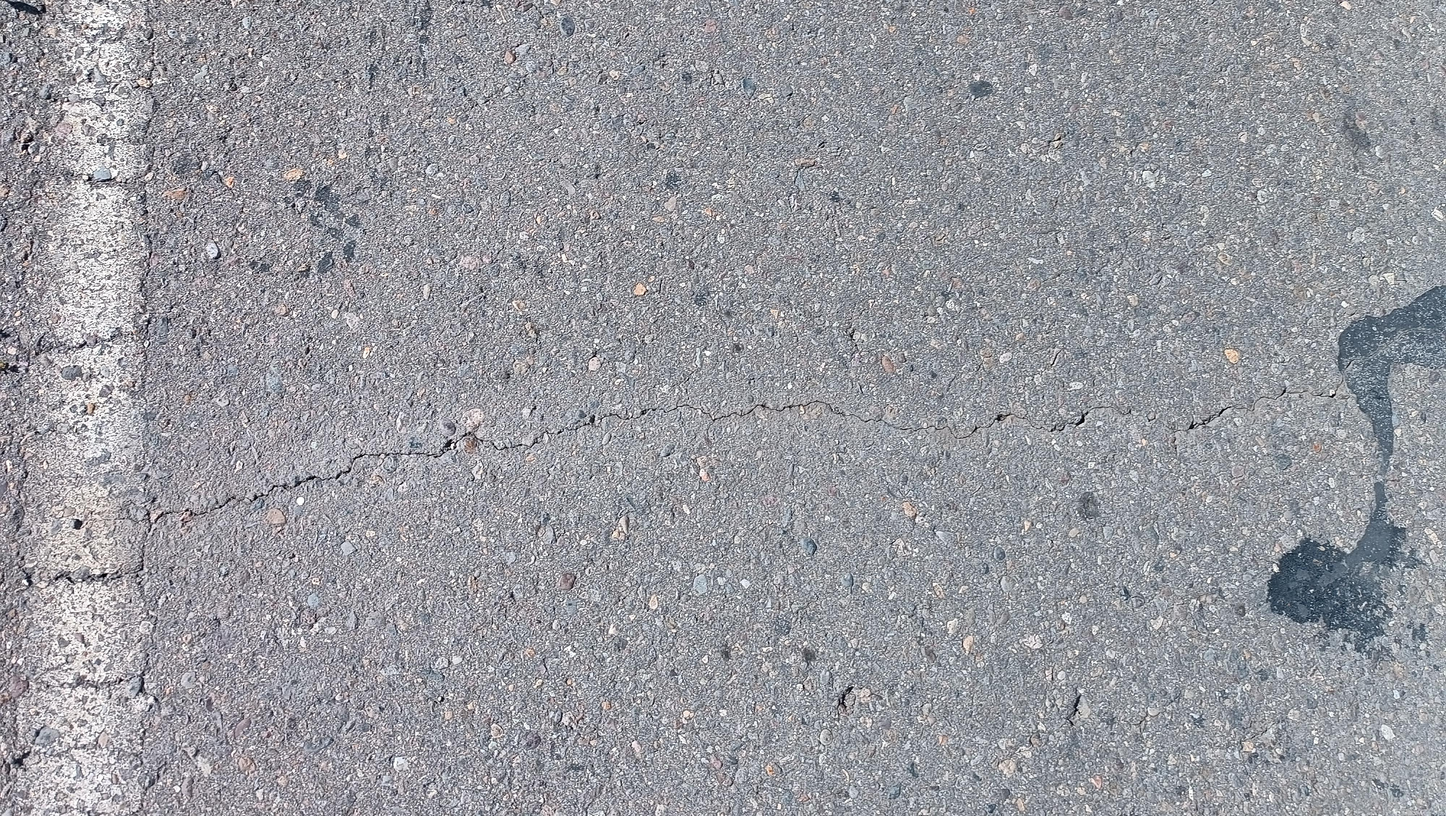GRIETA: (150, 399, 1234, 524)
